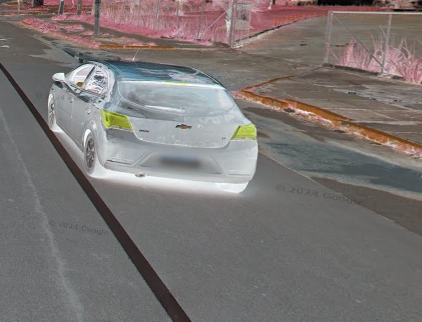car: (42, 44, 260, 207)
